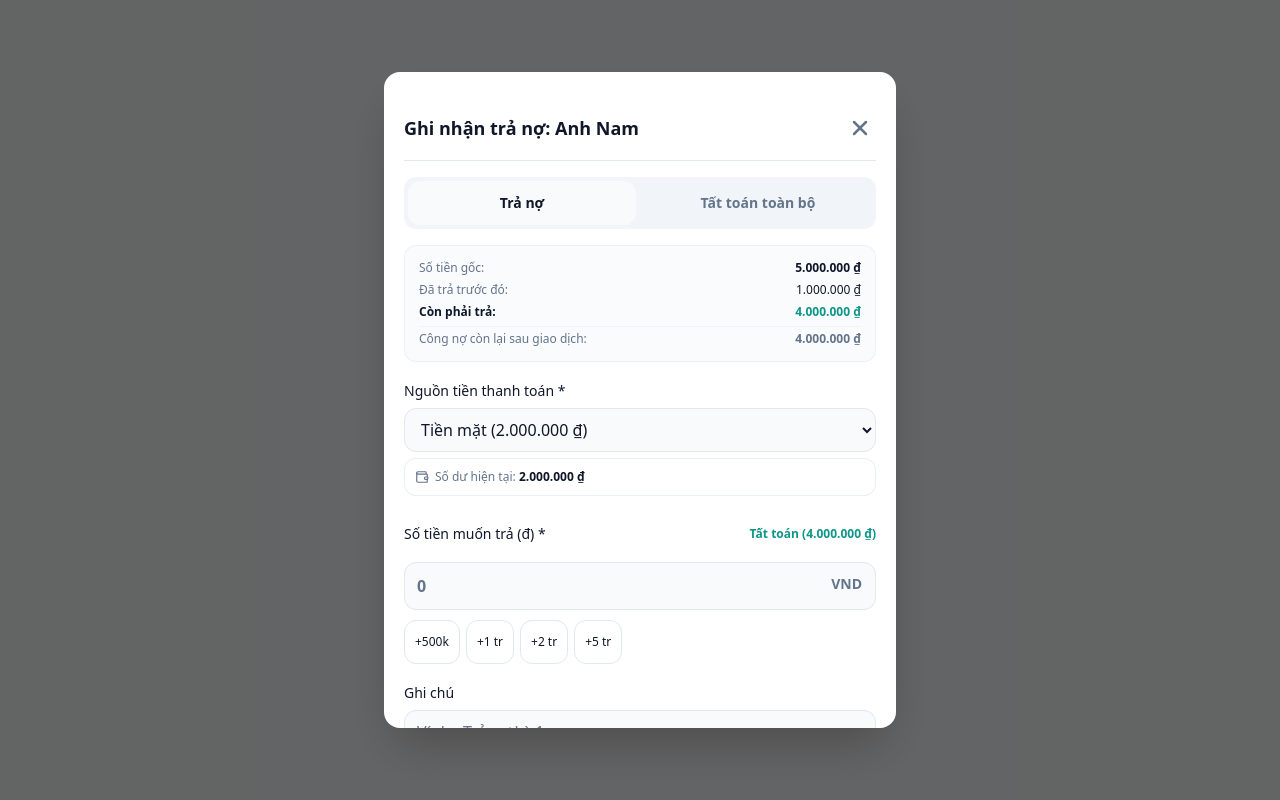
Test case: PaymentDialog Component Test › hiển thị nguồn tiền kèm số dư và cảnh báo khi nguồn tiền không đủ số dư
Step 1. Type "3000000" into the field labelled "Số tiền muốn trả (đ) *" → (640, 586), box [404, 562, 876, 610]
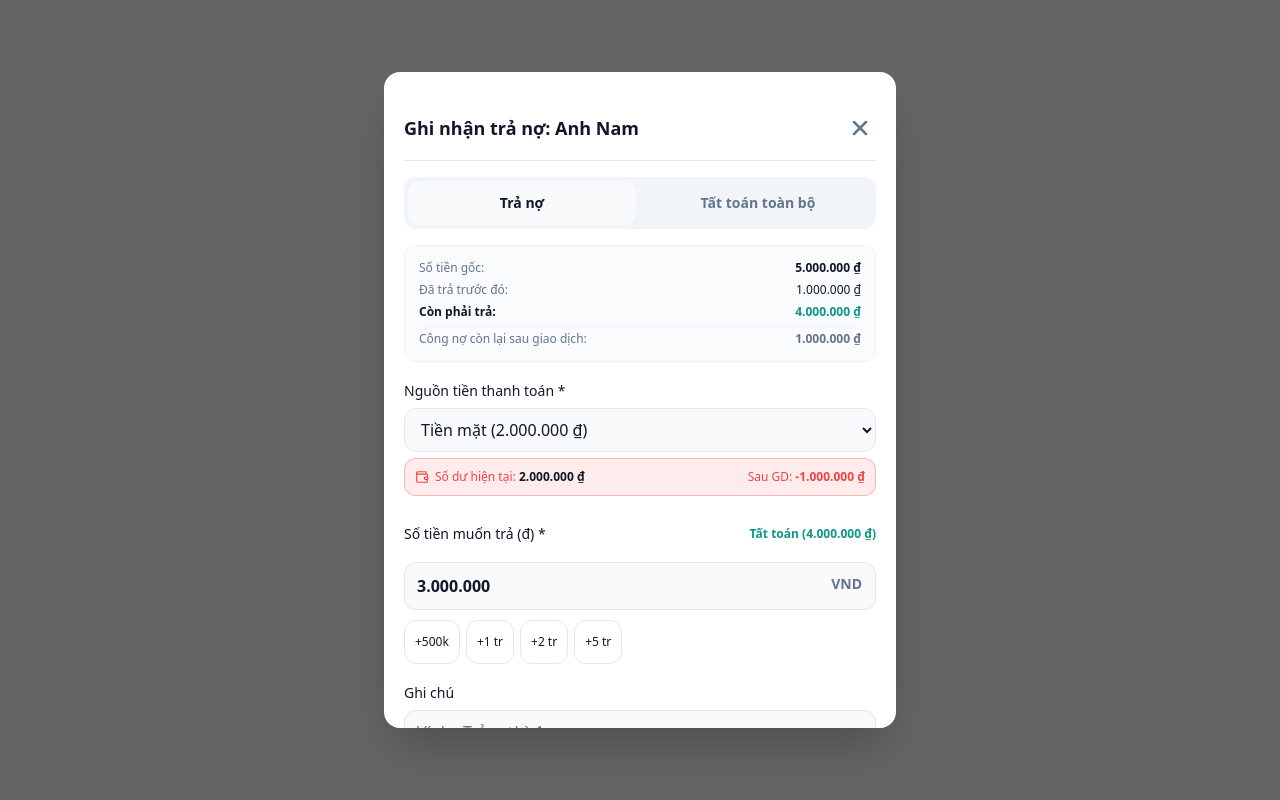
Step 2. Select "Ngân hàng (10.000.000 ₫)" in the dropdown labelled "Nguồn tiền thanh toán *" → (640, 430), box [404, 408, 876, 452]
(page scrolled)
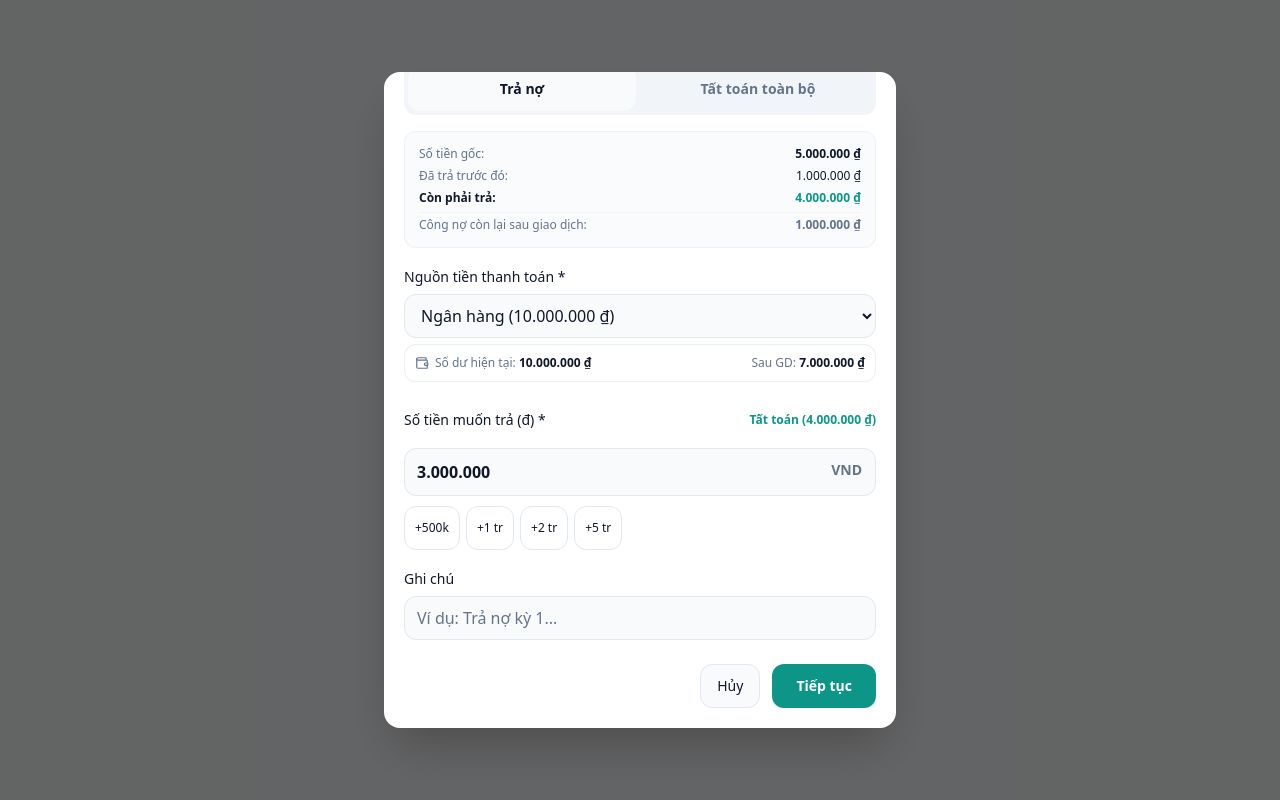
Now the button "Tiếp tục" is enabled
Step 3. Click the button "Tiếp tục" → (824, 686), box [772, 664, 876, 708]
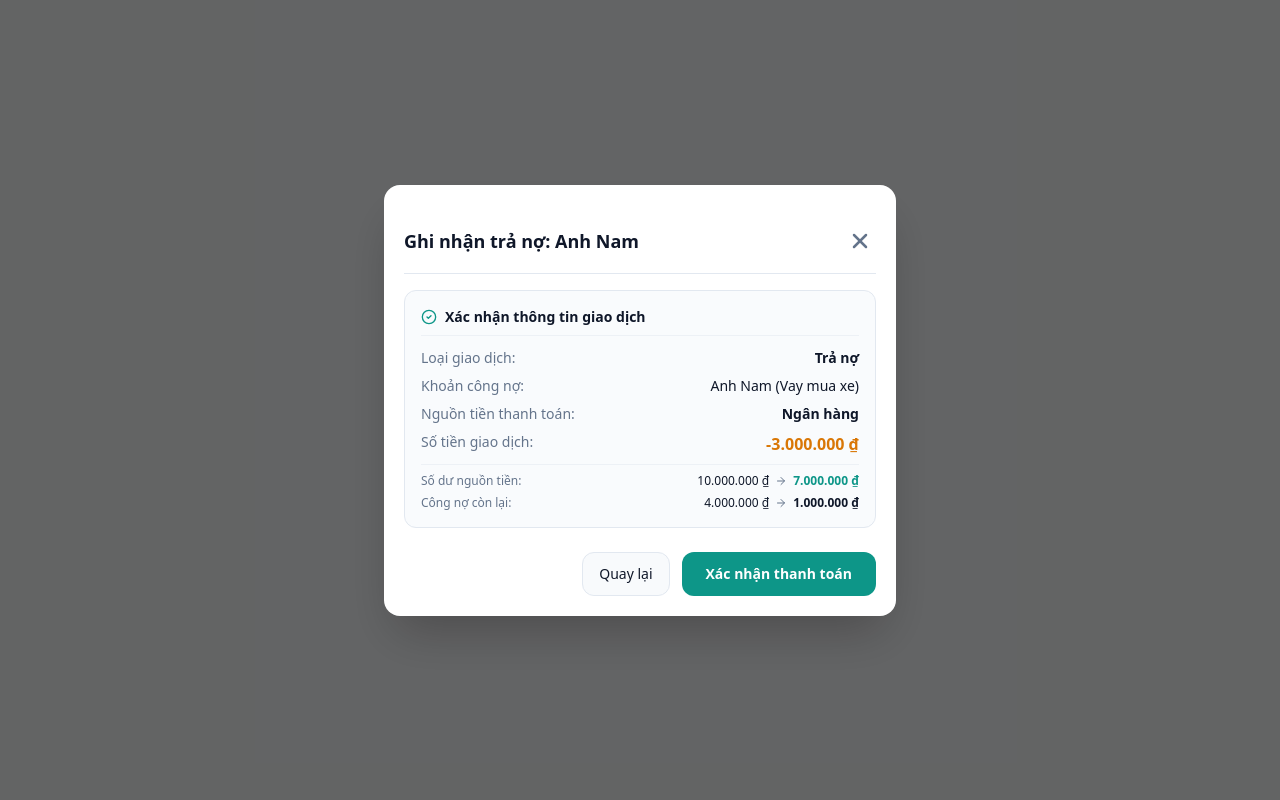
Now the text "Xác nhận thông tin giao dịch" is shown, box [445, 306, 646, 326]
